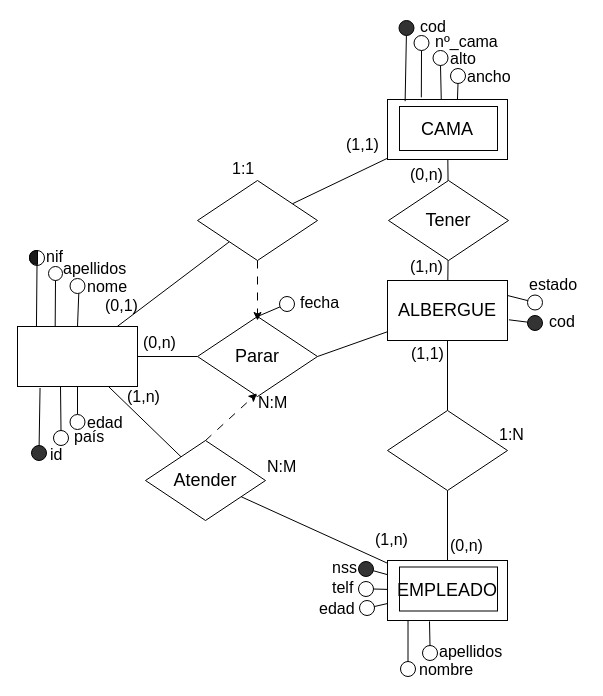
Image size: 603x696. Some labels were removed from this diagram. Here are the shapes that lost their labels. From the top down, the box of each, then its label:
(196, 180, 318, 260): Dormir
(16, 326, 138, 386): PEREGRINO
(386, 410, 508, 490): Trabajar
